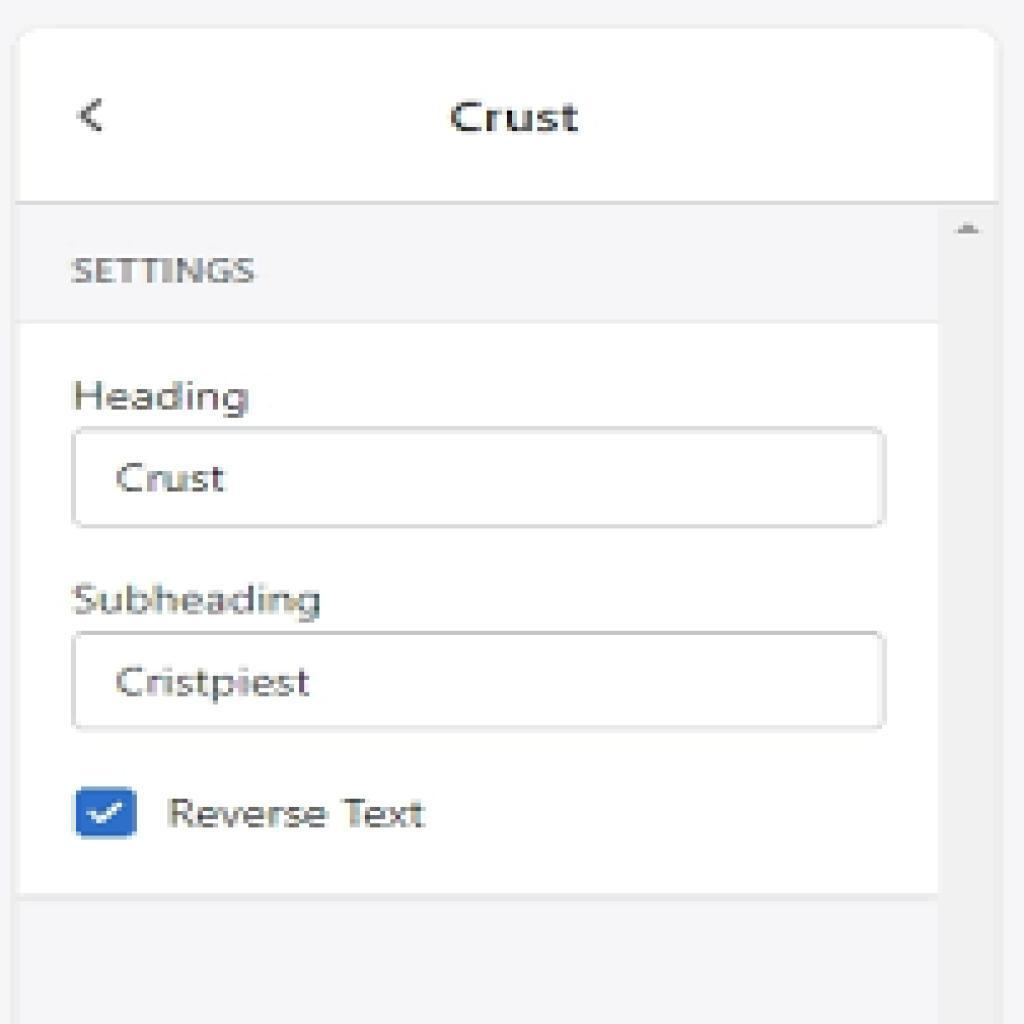checkbox: (75, 787, 140, 842)
icon: (67, 90, 115, 139)
input: (71, 630, 886, 732), (69, 429, 891, 529)
